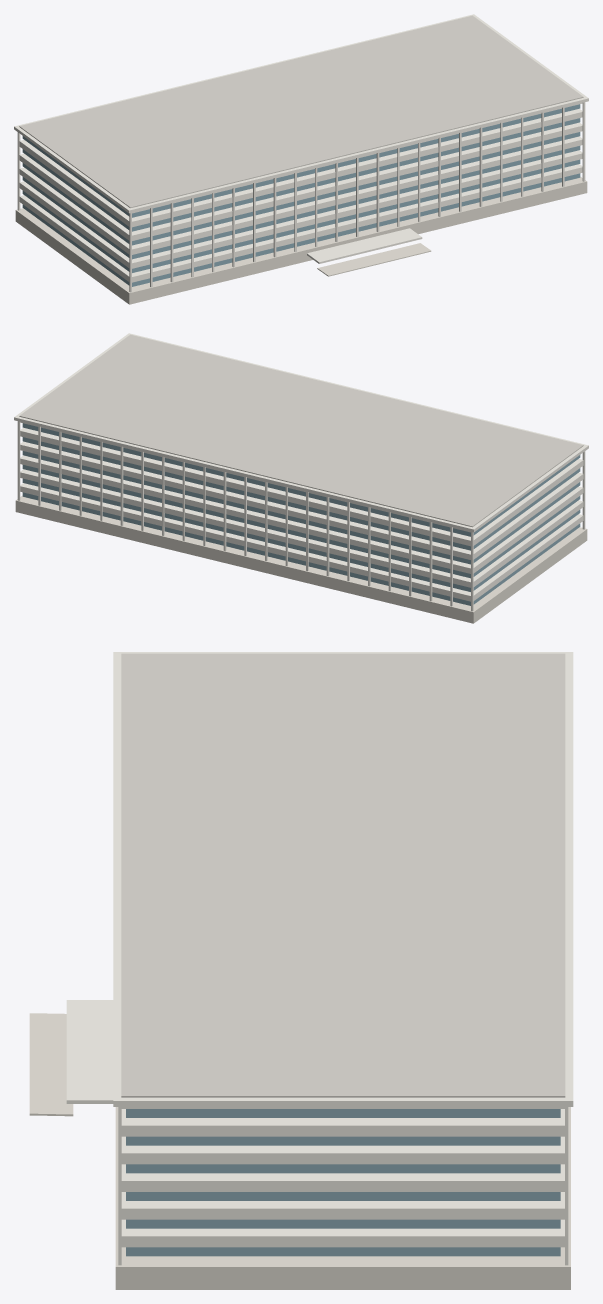
The model's file is 文泰楼.glb.
The picture shows the model from 3 angles, top to bottom: view 1: azimuth 30°, elevation 25°; view 2: azimuth 150°, elevation 25°; view 3: azimuth 270°, elevation 25°; orthographic projection. The views are drawn at different scales.
Visible parts, largest first — view 1: 文泰楼_roofDeck, 文泰楼_trim, 文泰楼_glass, 文泰楼_stone; view 2: 文泰楼_roofDeck, 文泰楼_trim, 文泰楼_glass, 文泰楼_stone; view 3: 文泰楼_roofDeck, 文泰楼_trim, 文泰楼_glass, 文泰楼_stone.
Part boxes in pixels (x1=…): 文泰楼_roofDeck: x1=19, y1=15, x2=583, y2=208; 文泰楼_trim: x1=14, y1=14, x2=588, y2=292; 文泰楼_glass: x1=22, y1=104, x2=580, y2=286; 文泰楼_stone: x1=15, y1=176, x2=587, y2=304; 文泰楼_roofDeck: x1=19, y1=334, x2=583, y2=527; 文泰楼_trim: x1=14, y1=333, x2=588, y2=611; 文泰楼_glass: x1=22, y1=423, x2=580, y2=605; 文泰楼_stone: x1=15, y1=495, x2=587, y2=623; 文泰楼_roofDeck: x1=121, y1=653, x2=565, y2=1097; 文泰楼_trim: x1=66, y1=652, x2=573, y2=1265; 文泰楼_glass: x1=126, y1=1109, x2=560, y2=1256; 文泰楼_stone: x1=29, y1=1013, x2=570, y2=1289.
Bounding box in the file's own units: 134 × 26.65 × 68.55.
